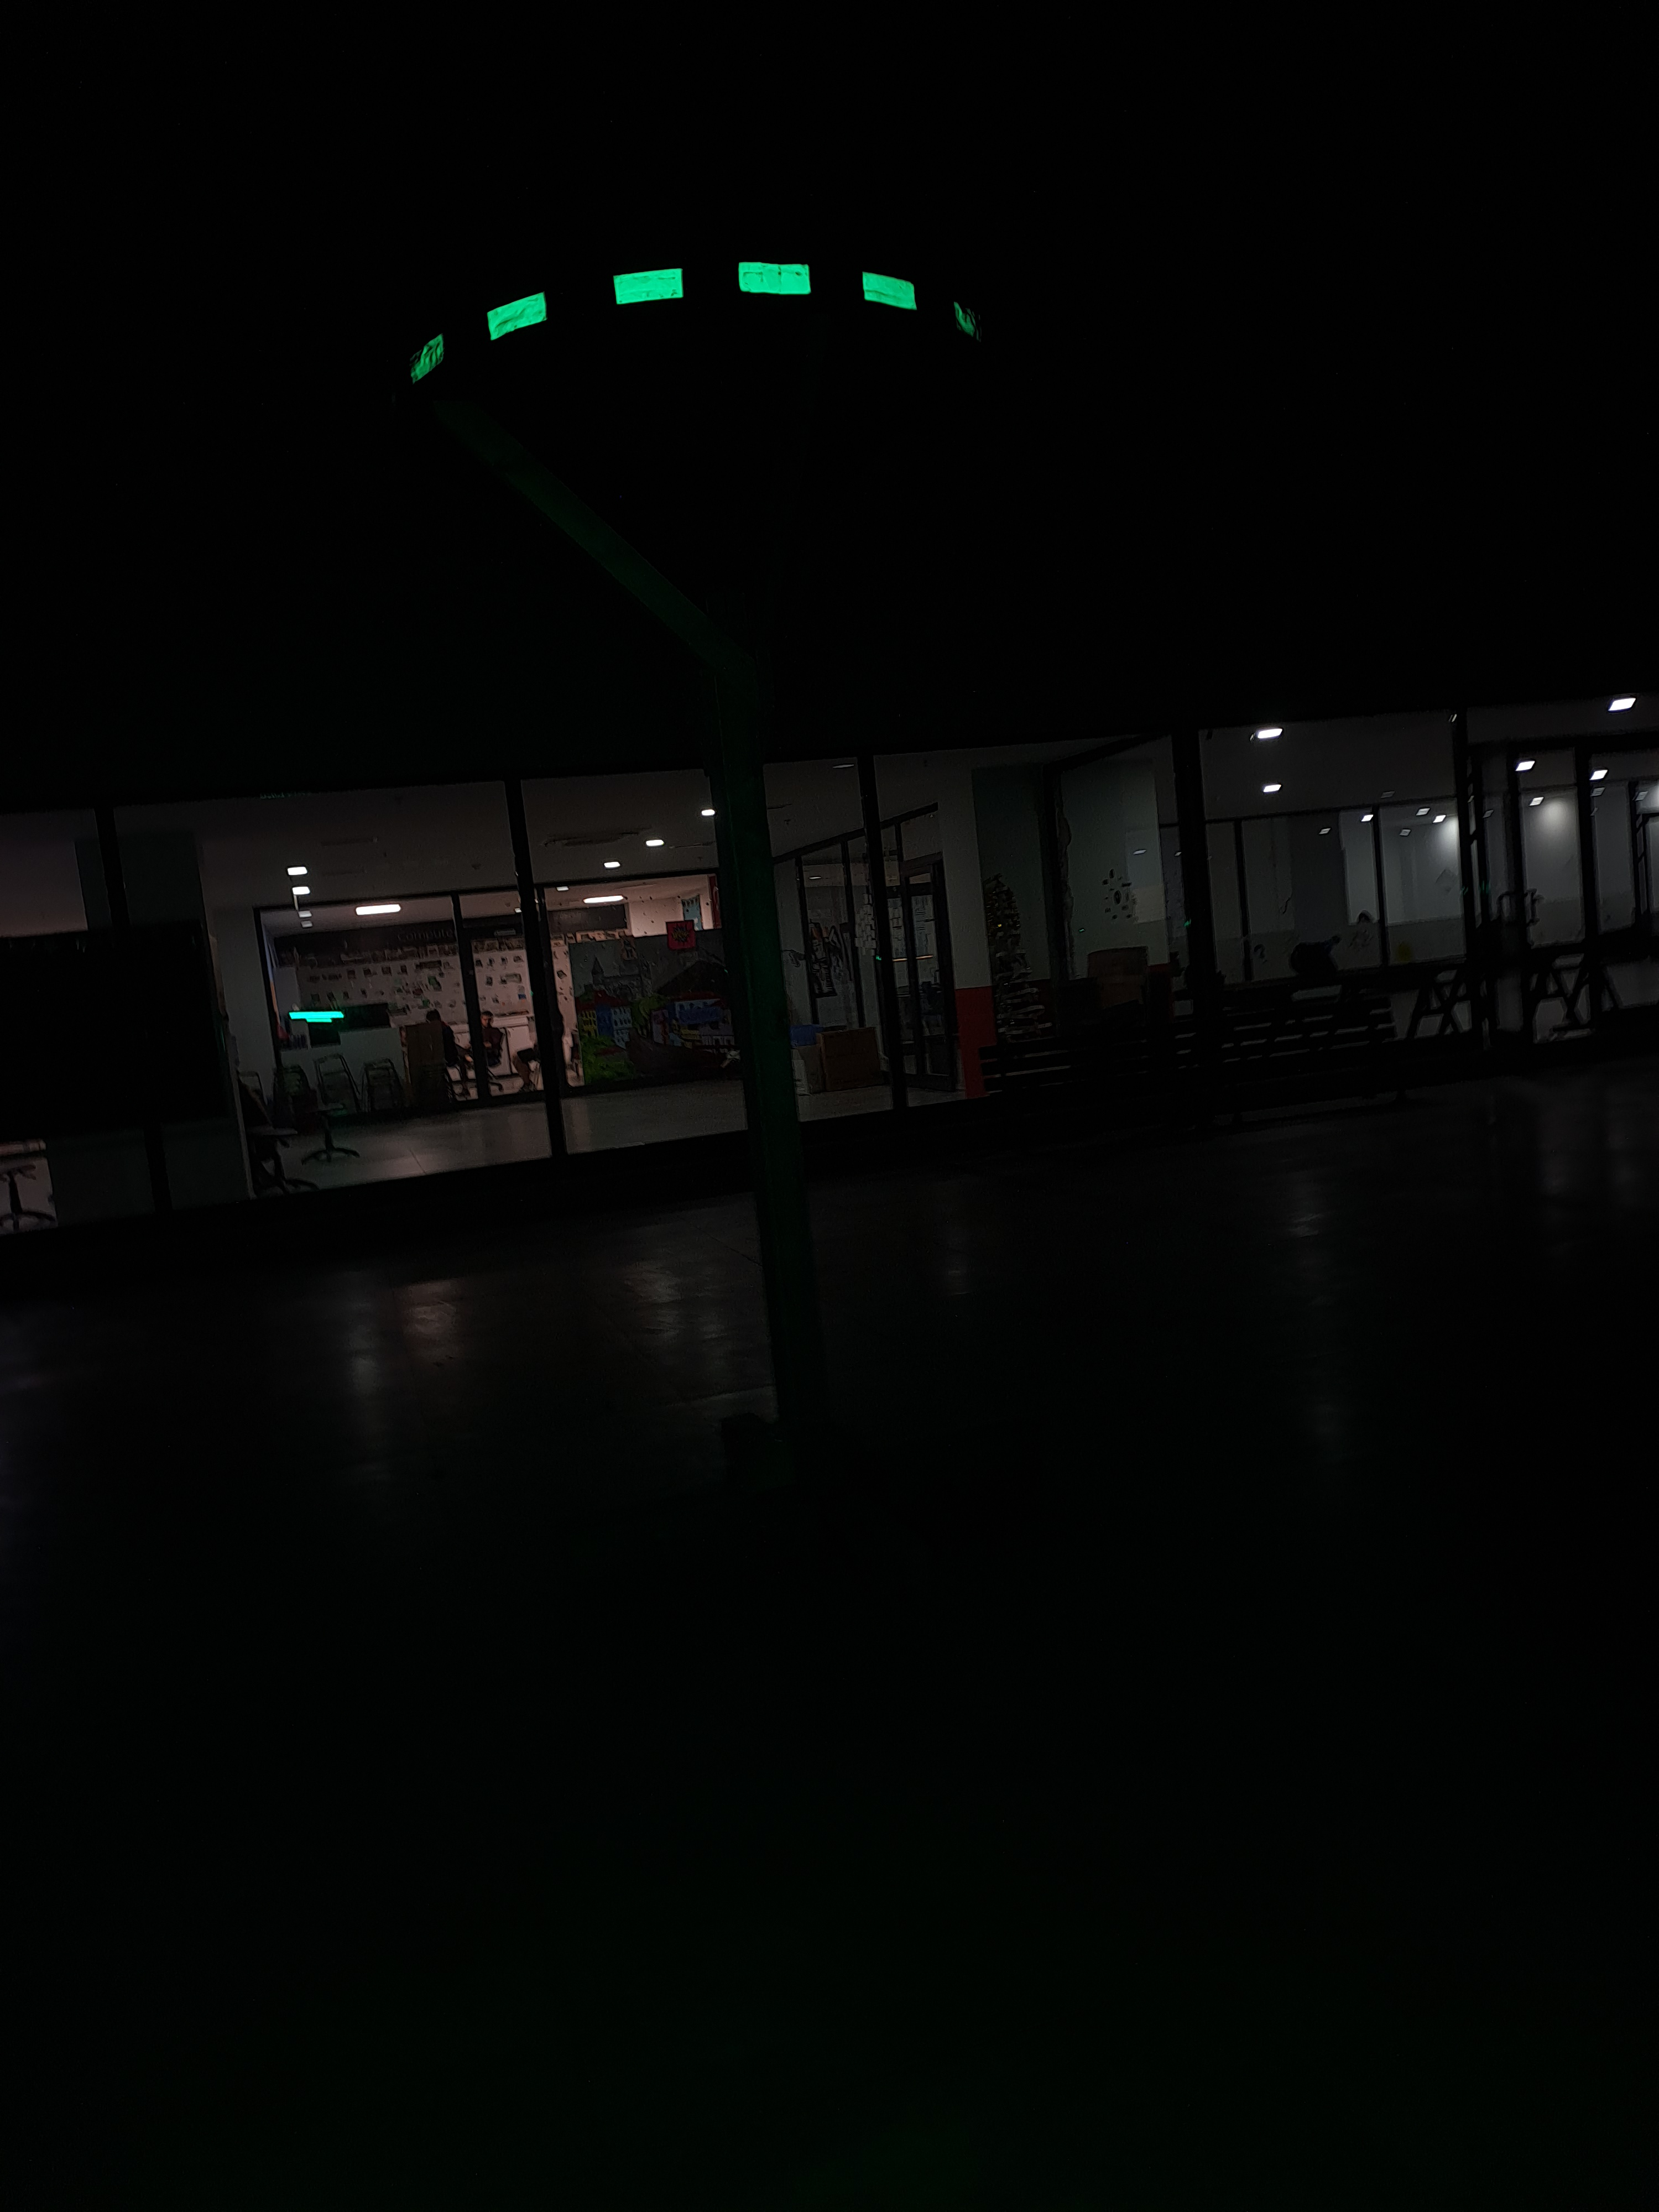hoop: (408, 258, 983, 387)
